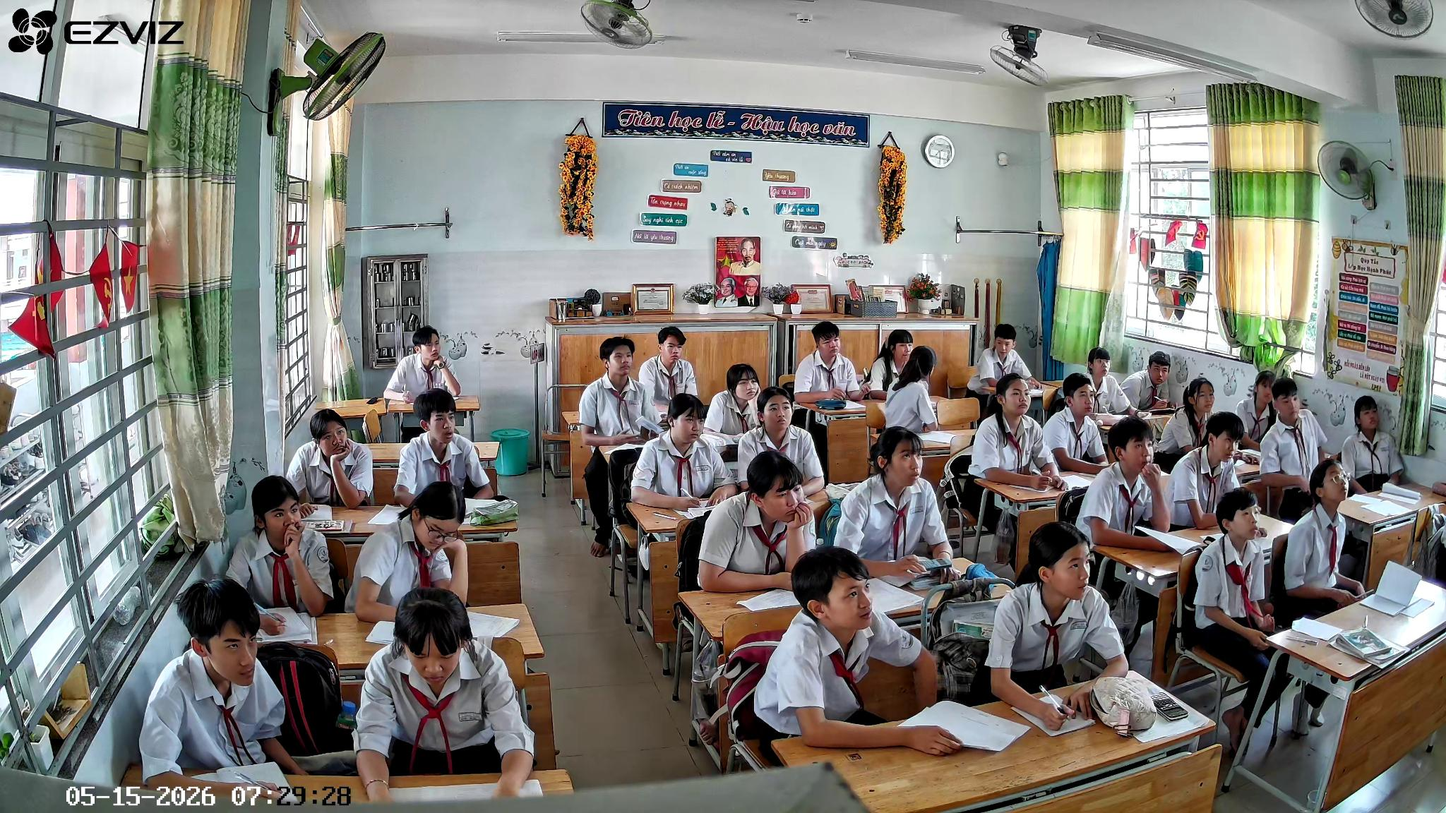person: (750, 545, 965, 759), (137, 579, 337, 802), (354, 587, 537, 806), (982, 522, 1129, 729), (1186, 488, 1280, 757), (834, 427, 959, 582), (579, 337, 665, 557), (1075, 416, 1176, 603), (346, 481, 470, 624), (227, 475, 336, 636), (697, 452, 818, 595), (1281, 459, 1373, 629), (629, 393, 740, 511), (391, 388, 498, 509), (969, 373, 1068, 494), (1260, 378, 1332, 523), (737, 387, 828, 498), (284, 409, 375, 517), (1164, 411, 1245, 529), (1042, 373, 1115, 478), (1337, 395, 1413, 494), (383, 325, 462, 406), (792, 321, 863, 407), (638, 326, 699, 424), (1155, 378, 1217, 471), (967, 323, 1043, 397), (883, 347, 941, 440), (703, 363, 763, 450), (1081, 347, 1131, 426), (1120, 352, 1178, 416), (862, 330, 913, 401), (1234, 370, 1278, 452)
